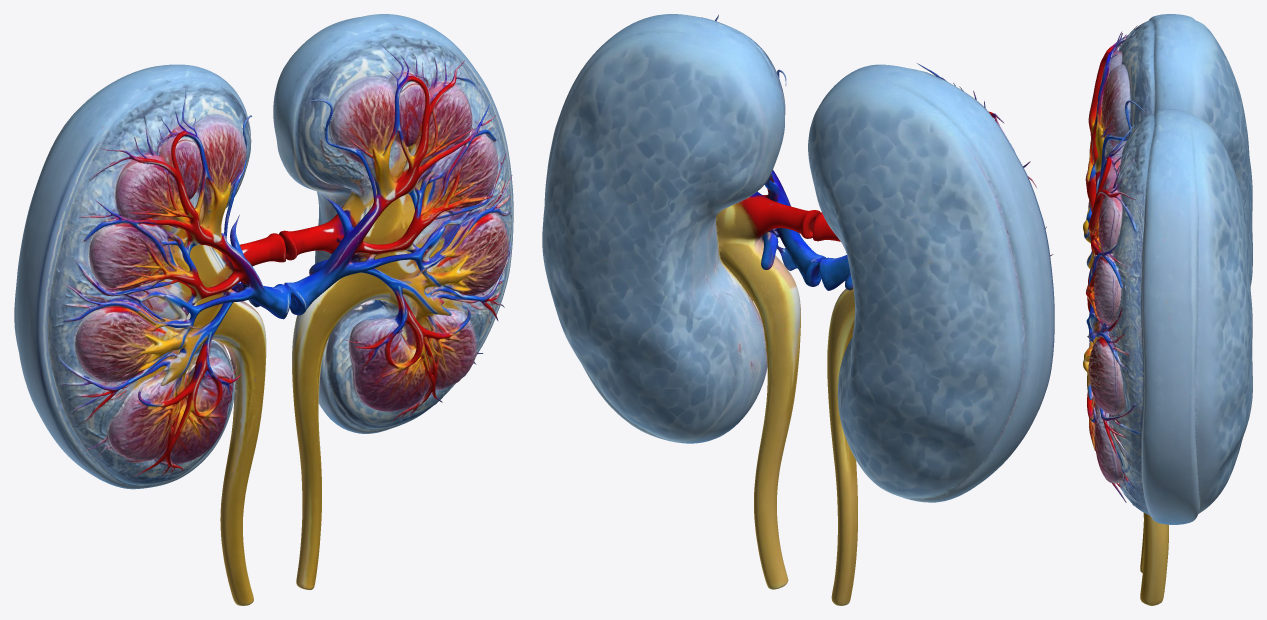
The model's file is kidneys.glb.
The picture shows the model from 3 angles, left to right: view 1: azimuth 30°, elevation 25°; view 2: azimuth 150°, elevation 25°; view 3: azimuth 270°, elevation 25°; orthographic projection. The views are drawn at different scales.
Bounding box in the file's own units: 1.76 × 1.9 × 0.567.
Materials: 1 (1 with a texture image).
